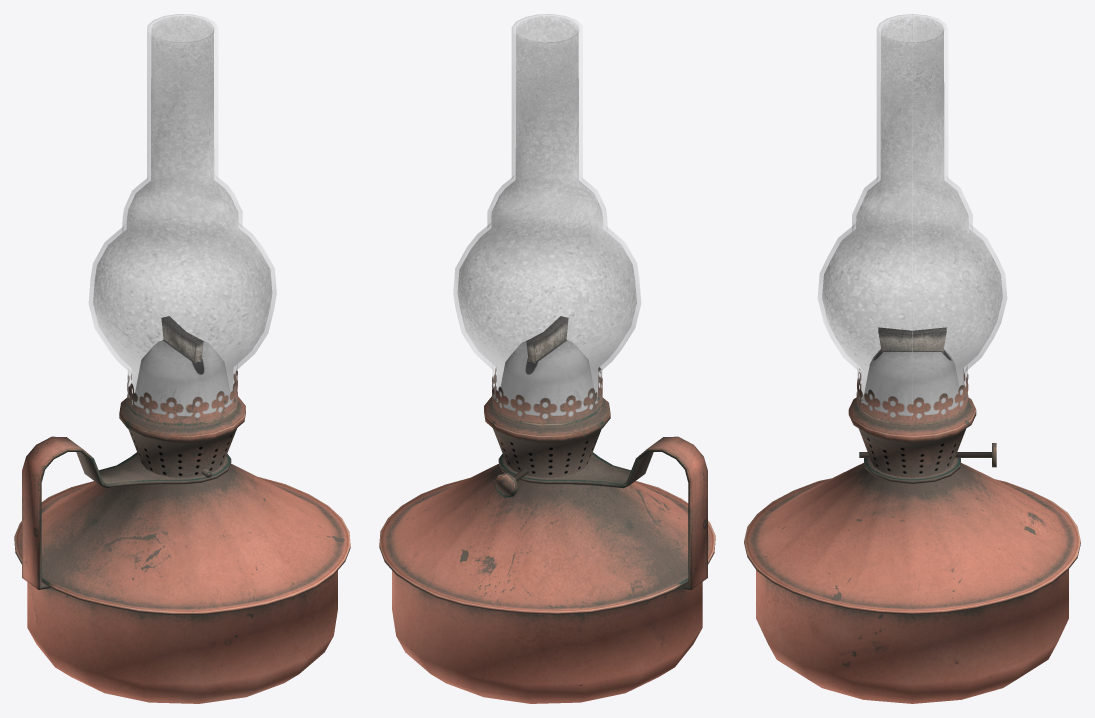
The model's file is oil_lamp_small.glb.
The picture shows the model from 3 angles, left to right: view 1: azimuth 30°, elevation 25°; view 2: azimuth 150°, elevation 25°; view 3: azimuth 270°, elevation 25°; orthographic projection.
Visible parts, largest first — view 1: oil_lamp_body_lp, oil_lamp_glass_lp; view 2: oil_lamp_body_lp, oil_lamp_glass_lp; view 3: oil_lamp_body_lp, oil_lamp_glass_lp.
Part boxes in pixels (bbox=[...]): oil_lamp_body_lp: bbox=[14, 316, 350, 703]; oil_lamp_glass_lp: bbox=[89, 14, 276, 418]; oil_lamp_body_lp: bbox=[379, 316, 715, 703]; oil_lamp_glass_lp: bbox=[453, 14, 640, 418]; oil_lamp_body_lp: bbox=[744, 327, 1080, 703]; oil_lamp_glass_lp: bbox=[818, 14, 1006, 418].
Size of the model in its own units: 0.1487 by 0.2997 by 0.1457.
2 materials, 2 textured.
